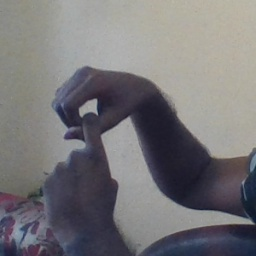Q: (37, 62, 147, 215)
